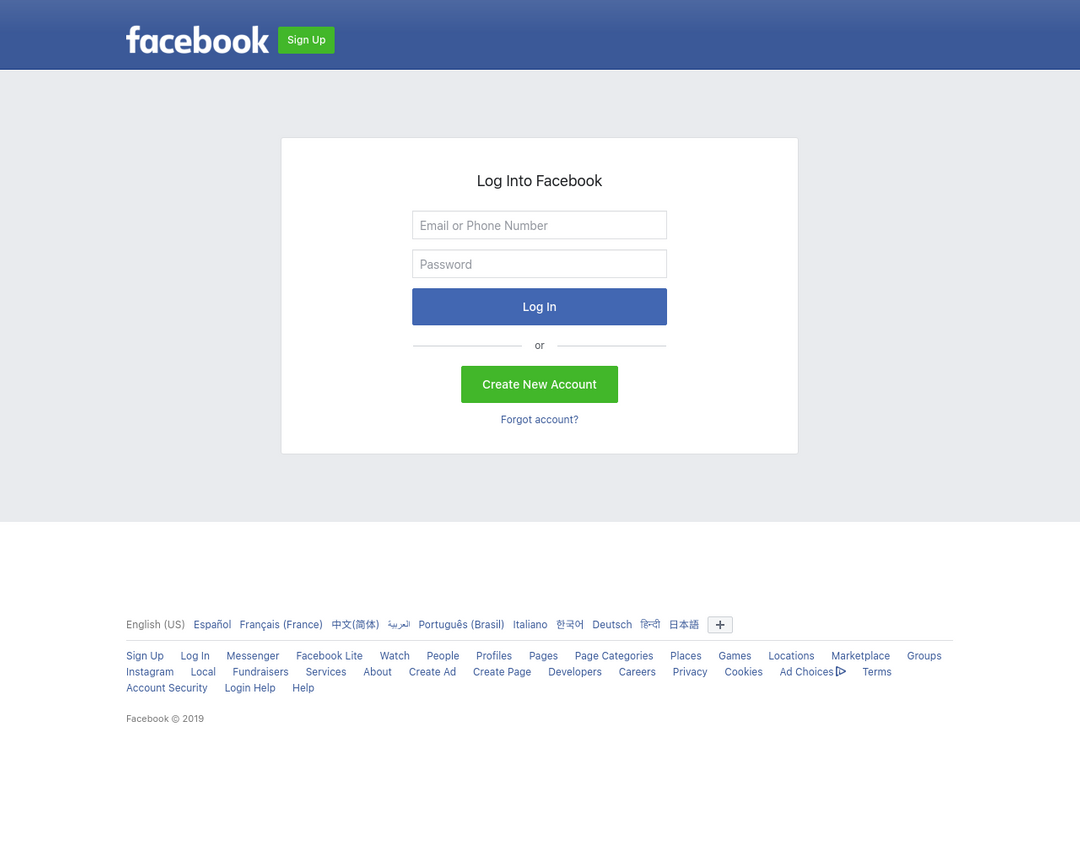Facebook: (120, 22, 275, 64)
